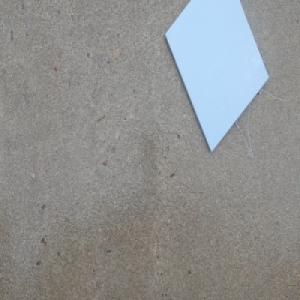PaintChip: (163, 0, 269, 154)
